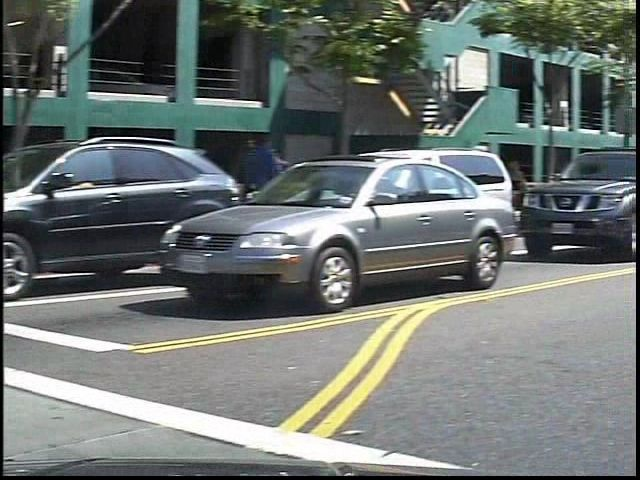person: (255, 128, 303, 243), (526, 156, 541, 185)
